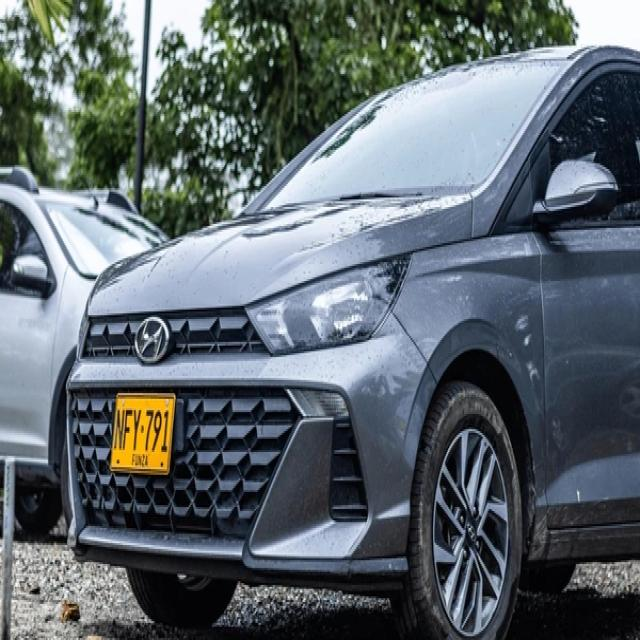hyundai: (135, 317, 173, 366)
